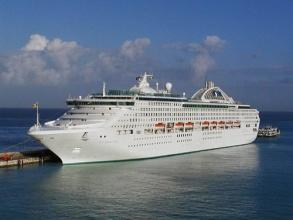youlun: (27, 76, 263, 165)
